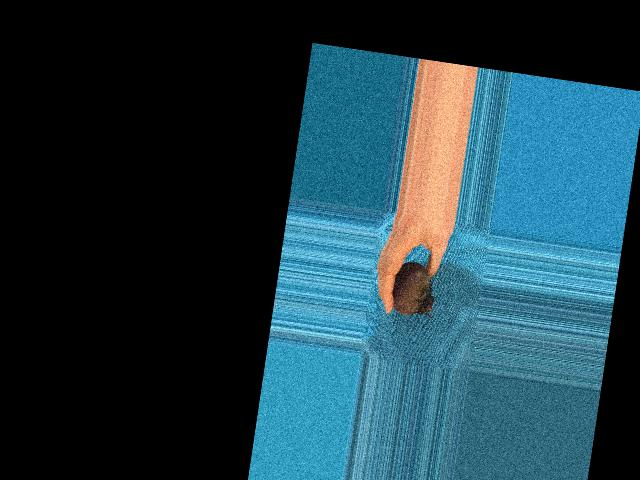beet: (390, 260, 440, 319)
